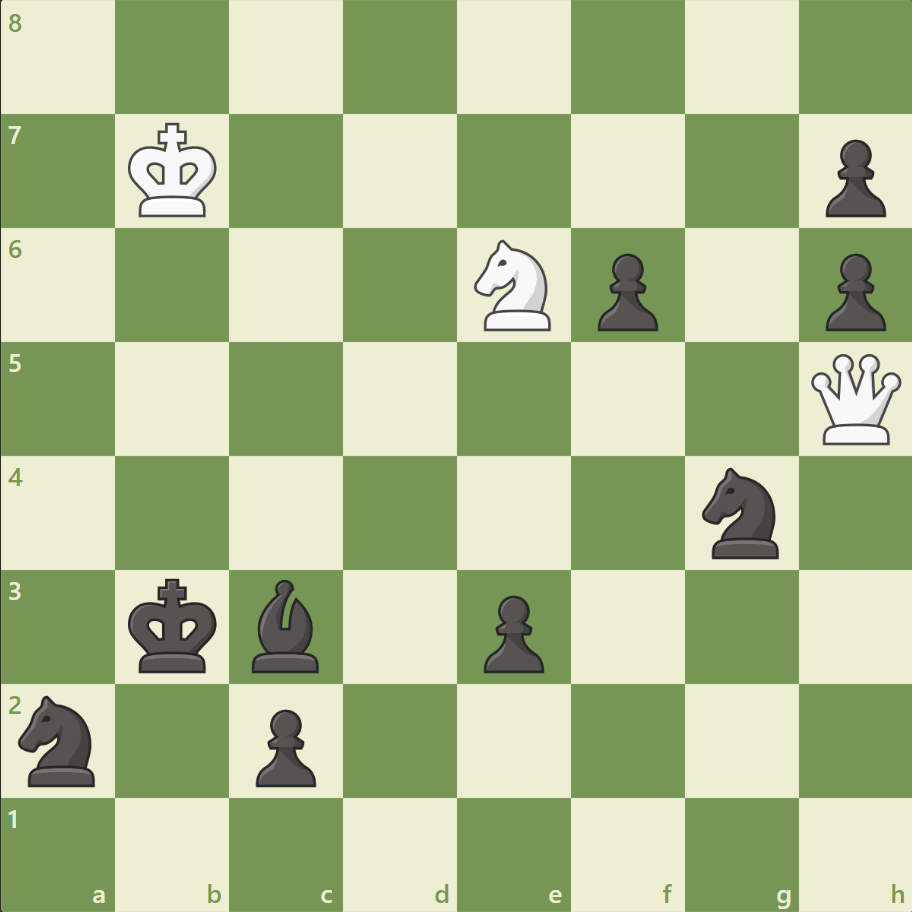K: (124, 117, 224, 225)
N: (465, 234, 562, 337)
Q: (805, 349, 904, 449)
b: (244, 574, 328, 676)
k: (124, 571, 224, 679)
n: (692, 461, 789, 564), (11, 688, 108, 791)
p: (474, 586, 549, 677), (247, 700, 322, 791), (815, 132, 889, 223), (588, 246, 662, 337), (815, 246, 889, 337)
